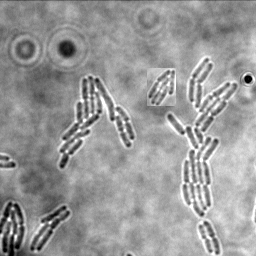Dividing: (204, 219, 222, 255), (199, 223, 215, 253)
Microcolony: (167, 57, 238, 216), (59, 75, 136, 169), (30, 204, 72, 251), (1, 200, 26, 255), (147, 68, 176, 106)
